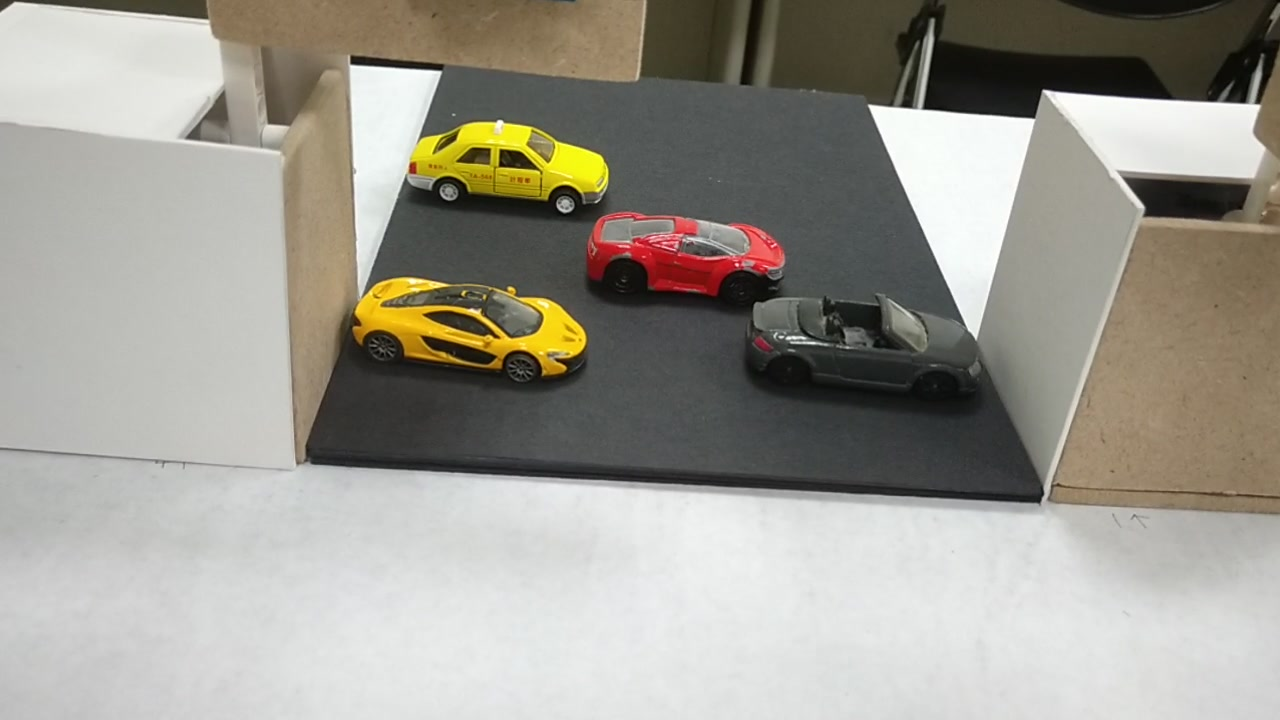car: (349, 267, 594, 386), (750, 296, 981, 412), (597, 211, 786, 309), (404, 125, 610, 210)
